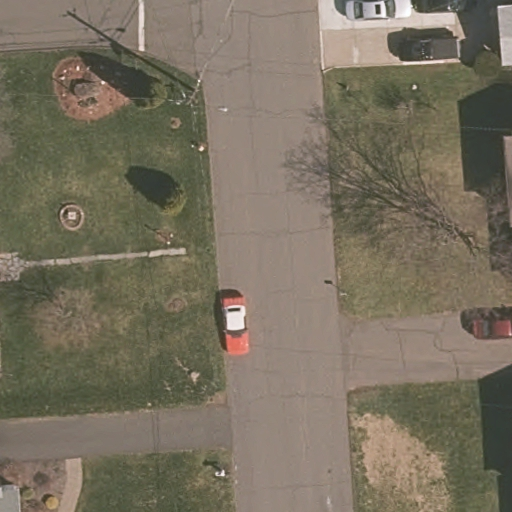DT: (172, 75, 217, 123)
